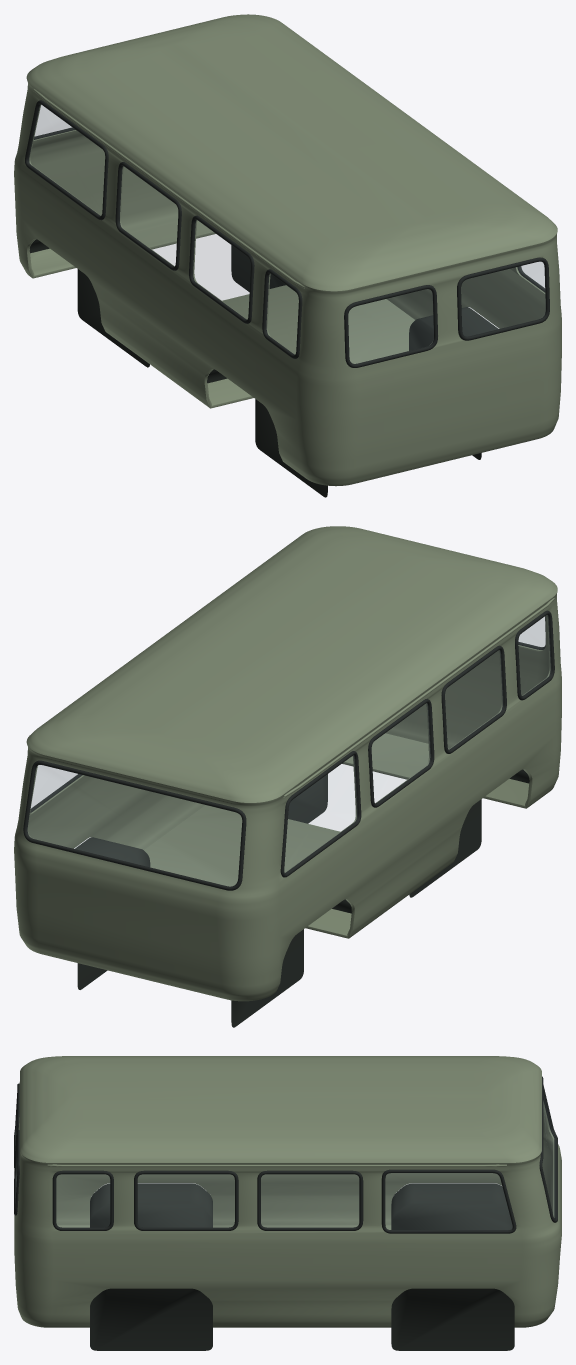
The model's file is bukhanka_body.glb.
3 renders of one model, top to bottom at view 1: azimuth 30°, elevation 25°; view 2: azimuth 150°, elevation 25°; view 3: azimuth 270°, elevation 25°, orthographic. The views are drawn at different scales.
Parts seen in each view (by area): view 1: BodyShell, RearWindow_-1, DriverWindow, RearWindow_1, SideWindow_-1_0, SideWindow_-1_1, SideWindow_-1_2, InnerWheelWell_-1_1.04, InnerWheelWell_-1_-1.26, InnerWheelWell_1_1.04, DriverWindow_Seal, RearWindow_-1_Seal (+6 smaller); view 2: BodyShell, Windscreen, DriverWindow, SideWindow_-1_0, SideWindow_-1_1, Windscreen_Seal, SideWindow_-1_2, InnerWheelWell_-1_-1.26, InnerWheelWell_1_-1.26, InnerWheelWell_-1_1.04, DriverWindow_Seal, InnerWheelWell_1_1.04 (+4 smaller); view 3: BodyShell, InnerWheelWell_1_-1.26, InnerWheelWell_1_1.04, PassengerWindow, InnerWheelWell_-1_-1.26, SideWindow_1_0, SideWindow_1_1, InnerWheelWell_-1_1.04, SideWindow_1_2, PassengerWindow_Seal, RainGutter_1, SideWindow_1_0_Seal (+5 smaller).
Boxes of the visible parts, x1,y1,x2,y2 form: BodyShell: (14,14,561,486); RearWindow_-1: (349,289,433,363); DriverWindow: (28,105,104,215); RearWindow_1: (461,262,545,335); SideWindow_-1_0: (119,167,177,265); SideWindow_-1_1: (193,220,250,318); SideWindow_-1_2: (266,274,298,353); InnerWheelWell_-1_1.04: (207,369,327,497); InnerWheelWell_-1_-1.26: (29,239,149,367); InnerWheelWell_1_1.04: (409,307,498,459); DriverWindow_Seal: (25,100,108,220); RearWindow_-1_Seal: (344,285,437,367); BodyShell: (14,526,561,1001); Windscreen: (28,765,241,885); DriverWindow: (285,756,357,872); SideWindow_-1_0: (372,703,430,802); SideWindow_-1_1: (445,650,502,748); Windscreen_Seal: (23,760,246,890); SideWindow_-1_2: (519,615,550,695); InnerWheelWell_-1_-1.26: (231,899,352,1027); InnerWheelWell_1_-1.26: (75,837,150,989); InnerWheelWell_-1_1.04: (409,769,529,897); DriverWindow_Seal: (280,751,361,877); InnerWheelWell_1_1.04: (288,774,327,823); BodyShell: (14,1056,561,1327); InnerWheelWell_1_-1.26: (391,1288,514,1350); InnerWheelWell_1_1.04: (90,1288,212,1350); PassengerWindow: (386,1173,511,1229); InnerWheelWell_-1_-1.26: (391,1183,512,1229); SideWindow_1_0: (261,1175,358,1226); SideWindow_1_1: (138,1175,234,1226); InnerWheelWell_-1_1.04: (90,1183,212,1227); SideWindow_1_2: (57,1175,109,1226); PassengerWindow_Seal: (381,1169,516,1233); RainGutter_1: (47,1164,506,1166); SideWindow_1_0_Seal: (257,1170,363,1230).
Bounding box in the file's own units: 1.95 × 1.88 × 4.18.
